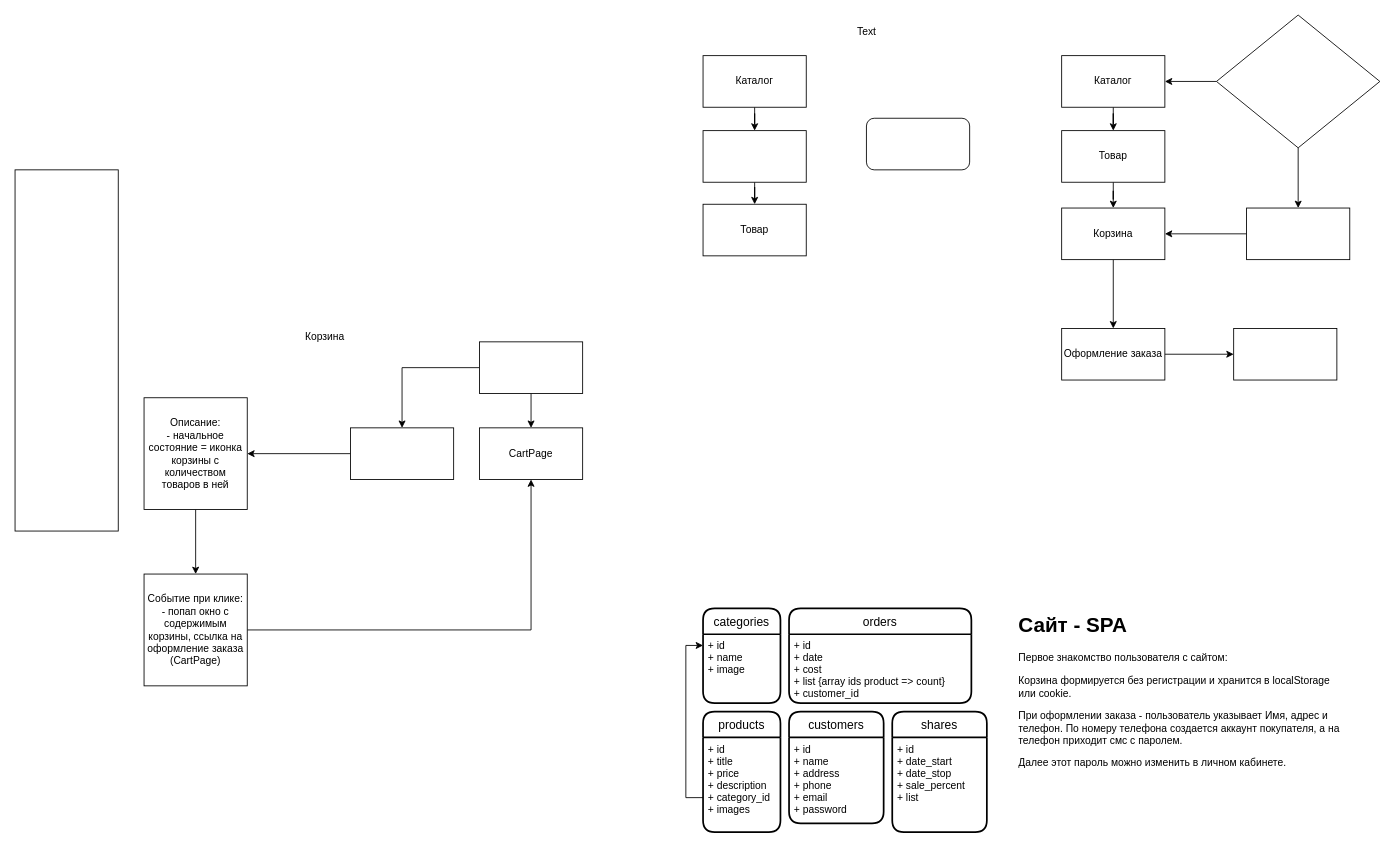
Some shapes in this 1395 by 848 pixel diagram are drawn without their labels. The centre of each missing label's shape, as x and y in pixels:
"Cart items add remove update {{" belongs at (66,350).
"CartComponent" belongs at (402,453).
"CartContext" belongs at (531,367).
"Категории" belongs at (754,156).
"Обувь" belongs at (1298,81).
"Пользователь" belongs at (1298,233).
"Форма" belongs at (1285,354).
